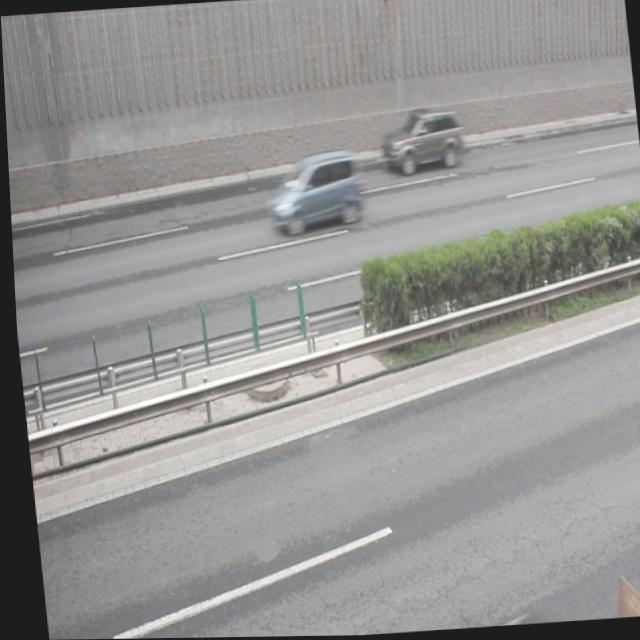car: (264, 147, 363, 235), (378, 106, 464, 176)
